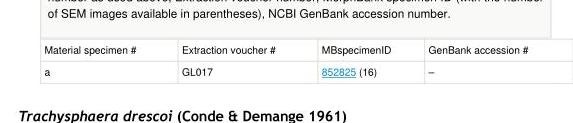table: (43, 42, 527, 77)
table column: (158, 42, 297, 77), (409, 42, 527, 77), (43, 42, 158, 77), (297, 42, 409, 77)
table row: (43, 42, 527, 60), (43, 60, 527, 77)
